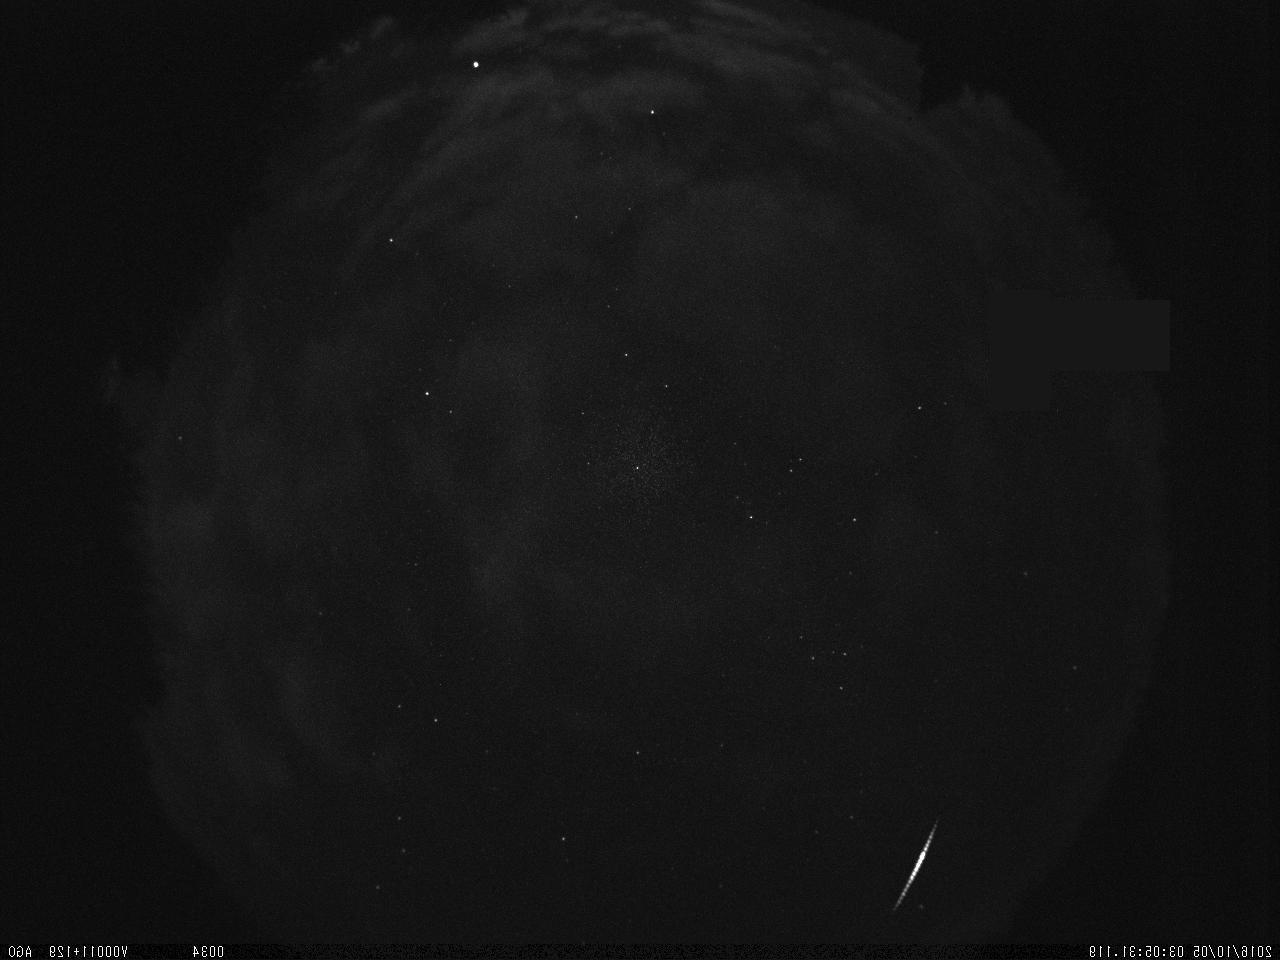meteor: (881, 813, 949, 925)
